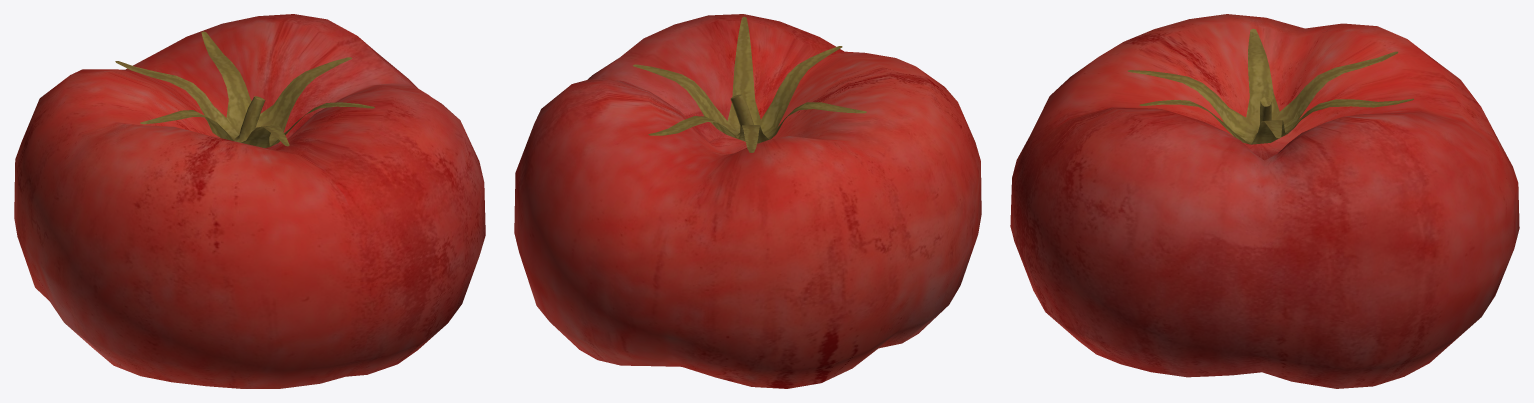
The model's file is tomat.glb.
3 renders of one model, left to right at view 1: azimuth 30°, elevation 25°; view 2: azimuth 150°, elevation 25°; view 3: azimuth 270°, elevation 25°, orthographic. The views are drawn at different scales.
Parts seen in each view (by area): view 1: Tomato.002, Tomato.008; view 2: Tomato.002, Tomato.008; view 3: Tomato.002, Tomato.008.
Boxes of the visible parts, box(x1,y1,x2,y2) form: Tomato.002: box(14, 14, 485, 388); Tomato.008: box(115, 31, 374, 147); Tomato.002: box(514, 14, 981, 388); Tomato.008: box(633, 16, 866, 152); Tomato.002: box(1010, 14, 1519, 388); Tomato.008: box(1127, 28, 1413, 144).
Size of the model in its own units: 31.21 by 19.28 by 34.07.
1 material, 1 textured.
